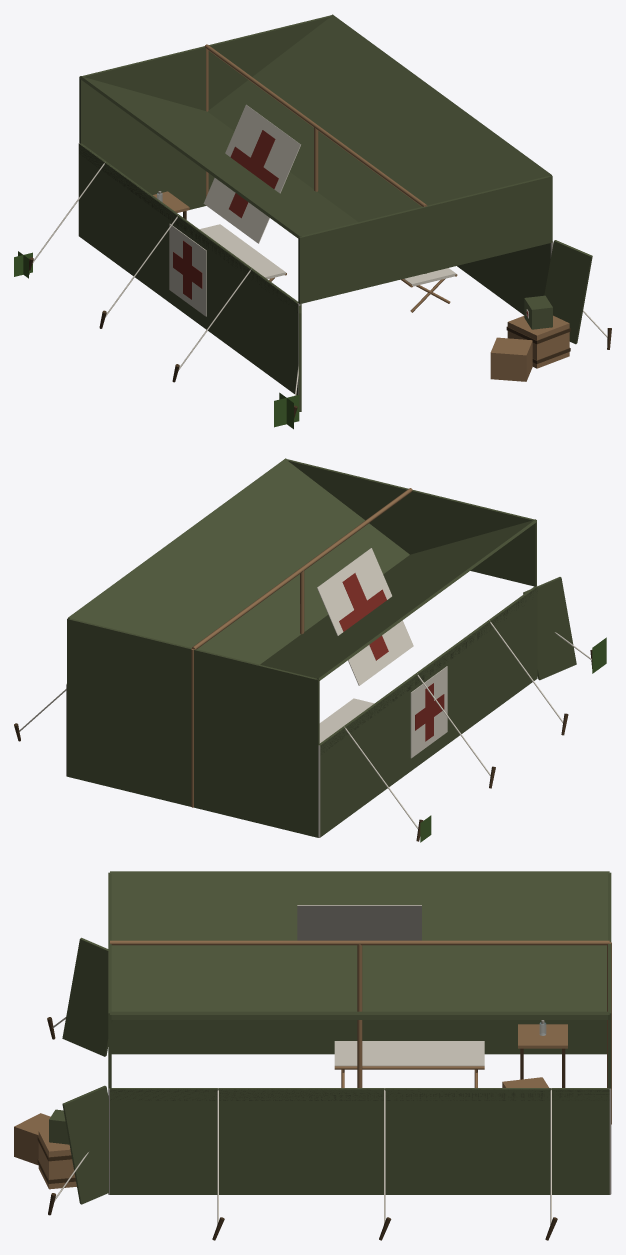
The model's file is field-medical-aid-station.glb.
3 views of the same model, one above another, from view 1: azimuth 30°, elevation 25°; view 2: azimuth 150°, elevation 25°; view 3: azimuth 270°, elevation 25° (orthographic). The views are drawn at different scales.
Visible parts, largest first — view 1: Mesh_Roof_Right, Mesh_Wall_Left, Mesh_Wall_FrontGable, Mesh_Wall_RearGable, Mesh_Roof_Left, Mesh_Wall_Rear, Mesh_Roof_Cross_White, Mesh_Wall_Right, Mesh_Flap_Right, Mesh_Wall_Cross_White, Mesh_ExtCrate3, Mesh_ExtCrate1 (+6 smaller); view 2: Mesh_Roof_Right, Mesh_Wall_Rear, Mesh_Wall_Left, Mesh_Wall_RearGable, Mesh_Wall_FrontGable, Mesh_Roof_Left, Mesh_Roof_Cross_White, Mesh_Flap_Left, Mesh_Wall_Cross_White, Mesh_RidgePole, Mesh_Eave_Left, Mesh_Cot1_Top (+2 smaller); view 3: Mesh_Roof_Left, Mesh_Wall_Right, Mesh_Wall_Left, Mesh_Roof_Cross_White, Mesh_Roof_Right, Mesh_Flap_Left, Mesh_Flap_Right, Mesh_Cot1_Top, Mesh_RidgePole, Mesh_Eave_Right, Mesh_ExtCrate1, Mesh_TableTop (+6 smaller).
Boxes of the visible parts, box(x1,y1,x2,y2) form: Mesh_Roof_Right: box(208, 14, 551, 273); Mesh_Wall_Left: box(79, 143, 298, 395); Mesh_Wall_FrontGable: box(298, 176, 552, 303); Mesh_Wall_RearGable: box(79, 15, 330, 143); Mesh_Roof_Left: box(79, 76, 424, 273); Mesh_Wall_Rear: box(82, 128, 214, 209); Mesh_Roof_Cross_White: box(203, 104, 300, 243); Mesh_Wall_Right: box(457, 243, 550, 314); Mesh_Flap_Right: box(544, 240, 592, 344); Mesh_Wall_Cross_White: box(169, 224, 206, 316); Mesh_ExtCrate3: box(490, 337, 532, 381); Mesh_ExtCrate1: box(507, 315, 569, 368); Mesh_Roof_Right: box(68, 458, 409, 664); Mesh_Wall_Rear: box(67, 684, 318, 837); Mesh_Wall_Left: box(319, 586, 537, 837); Mesh_Wall_RearGable: box(67, 618, 319, 745); Mesh_Wall_FrontGable: box(287, 459, 536, 586); Mesh_Roof_Left: box(260, 519, 536, 680); Mesh_Roof_Cross_White: box(317, 548, 413, 685); Mesh_Flap_Left: box(523, 577, 576, 680); Mesh_Wall_Cross_White: box(410, 666, 447, 758); Mesh_RidgePole: box(191, 488, 412, 649); Mesh_Eave_Left: box(320, 587, 537, 754); Mesh_Cot1_Top: box(319, 698, 374, 743); Mesh_Roof_Left: box(110, 871, 609, 1011); Mesh_Wall_Right: box(110, 1088, 609, 1194); Mesh_Wall_Left: box(111, 1020, 606, 1054); Mesh_Roof_Cross_White: box(297, 905, 421, 940); Mesh_Roof_Right: box(110, 1011, 609, 1019); Mesh_Flap_Left: box(62, 937, 112, 1056); Mesh_Flap_Right: box(62, 1085, 108, 1204); Mesh_Cot1_Top: box(334, 1041, 484, 1066); Mesh_RidgePole: box(110, 940, 609, 945); Mesh_Eave_Right: box(110, 1089, 609, 1100); Mesh_ExtCrate1: box(38, 1130, 76, 1189); Mesh_TableTop: box(518, 1024, 567, 1048).
Size of the model in its own units: 6.68 by 2.64 by 7.18.
Materials: 2 (2 with a texture image).
